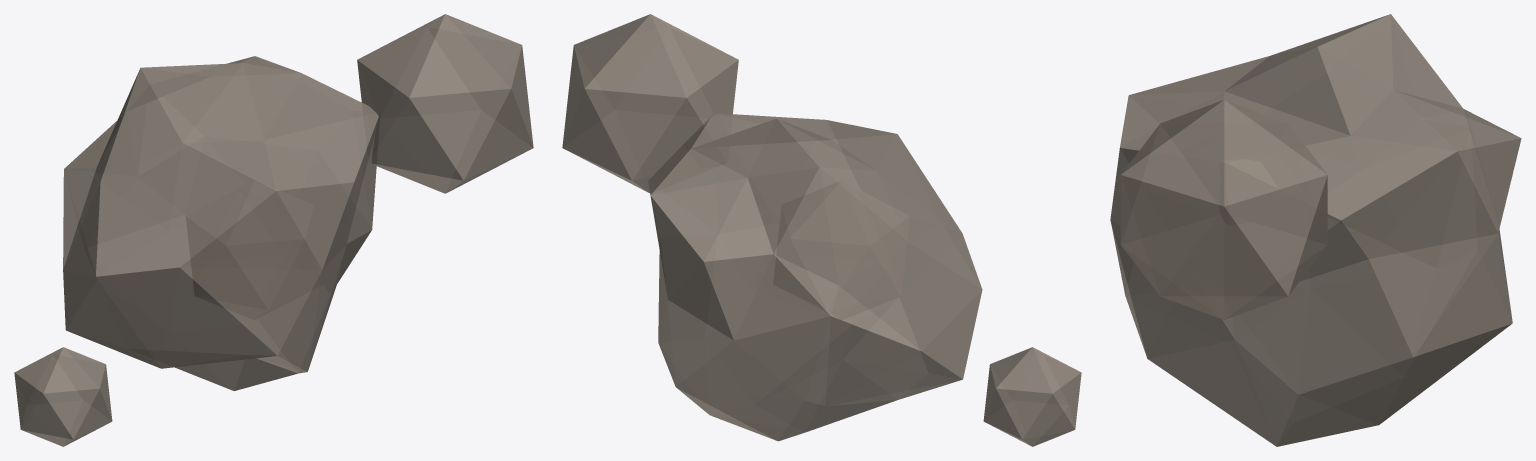
Rendered from slag_chunk.glb.
3 views of the same model, side by side, from view 1: azimuth 30°, elevation 25°; view 2: azimuth 150°, elevation 25°; view 3: azimuth 270°, elevation 25° (orthographic). The views are drawn at different scales.
Visible parts, largest first — view 1: SlagChunk, SmallChunk_2, SmallChunk_1, SmallChunk_0; view 2: SlagChunk, SmallChunk_2, SmallChunk_1, SmallChunk_0; view 3: SlagChunk, SmallChunk_2.
Part boxes in pixels (bbox=[...]): SlagChunk: bbox=[63, 56, 379, 390]; SmallChunk_2: bbox=[357, 14, 533, 193]; SmallChunk_1: bbox=[186, 181, 322, 319]; SmallChunk_0: bbox=[14, 347, 112, 446]; SlagChunk: bbox=[648, 113, 982, 441]; SmallChunk_2: bbox=[562, 14, 738, 193]; SmallChunk_1: bbox=[773, 181, 909, 319]; SmallChunk_0: bbox=[983, 347, 1081, 446]; SlagChunk: bbox=[1110, 14, 1521, 446]; SmallChunk_2: bbox=[1120, 99, 1327, 319].
Bounding box in the file's own units: 5.25 × 3.53 × 3.04.
